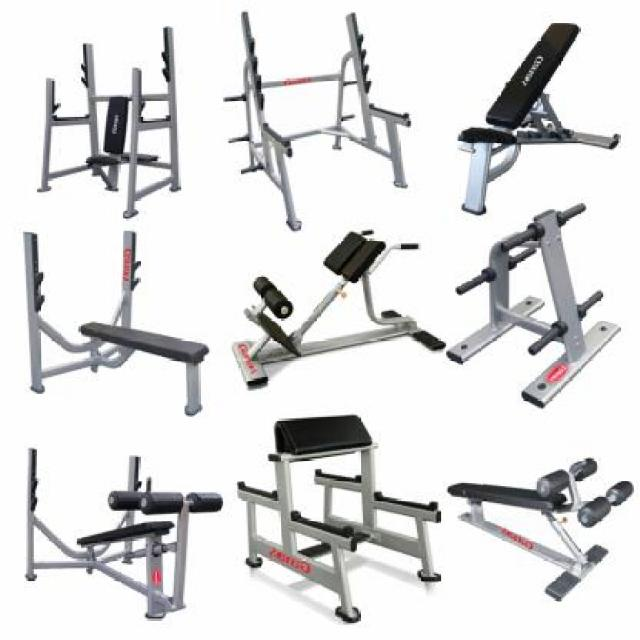arm curl machine: (238, 413, 442, 624)
